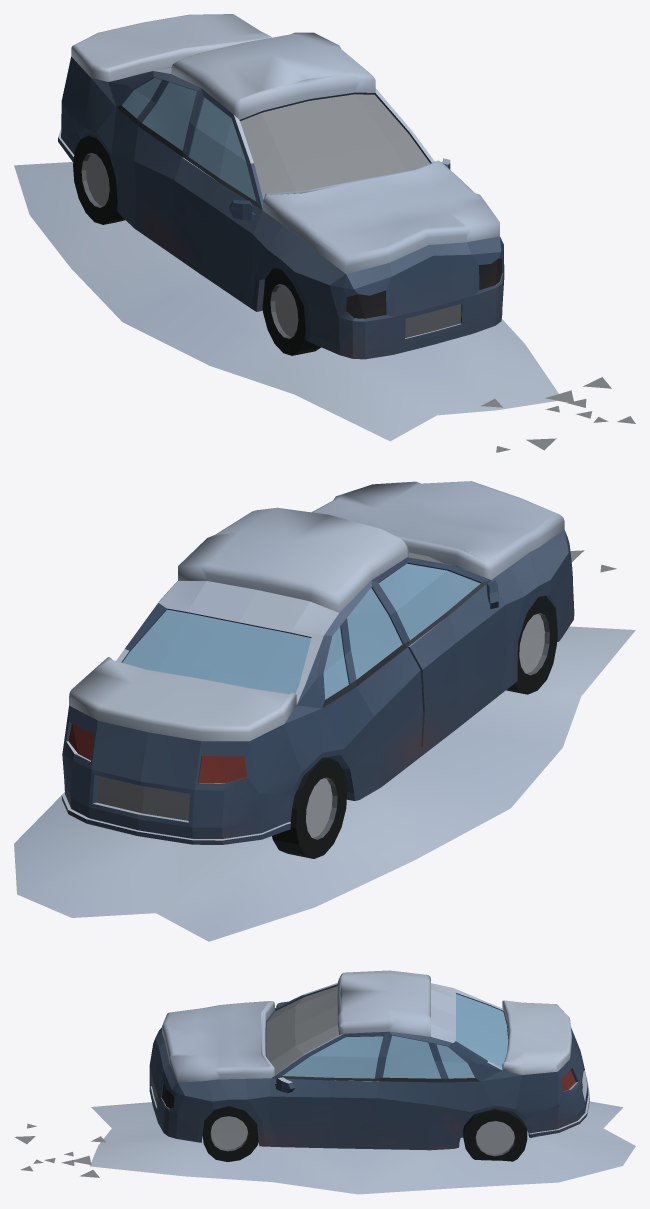
File: sedan_crashed.glb
The picture shows the model from 3 angles, top to bottom: view 1: azimuth 30°, elevation 25°; view 2: azimuth 150°, elevation 25°; view 3: azimuth 270°, elevation 25°; orthographic projection. The views are drawn at different scales.
Parts seen in each view (by area): view 1: Body, Glass; view 2: Body, Glass; view 3: Body, Glass.
Boxes of the visible parts, x1,y1,x2,y2 form: Body: [14, 14, 635, 452]; Glass: [122, 78, 256, 201]; Body: [14, 481, 635, 941]; Glass: [122, 563, 480, 699]; Body: [14, 970, 635, 1194]; Glass: [282, 994, 508, 1078].
Bounding box in the file's own units: 2.73 × 1.66 × 6.26.
